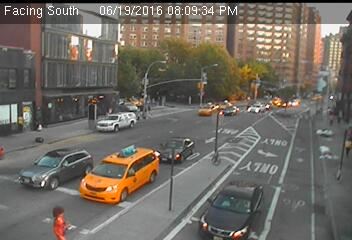neg: (30, 112, 48, 136), (90, 80, 102, 98)
pos: (46, 203, 71, 237)
